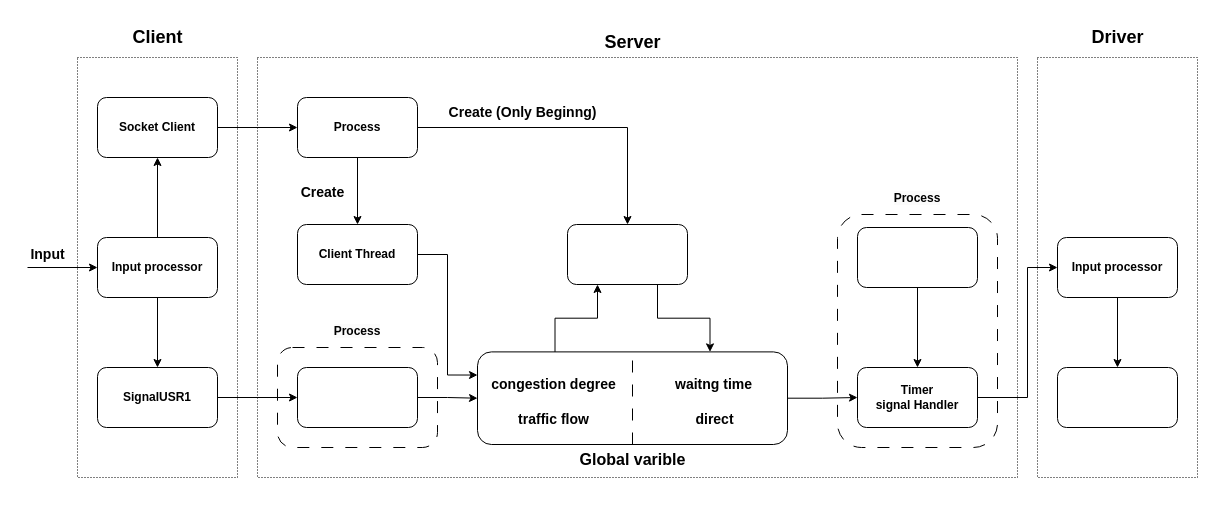
Some shapes in this 1215 by 511 pixel diagram are drawn without their labels. The shapes that lost their labels are listed below. From the top down, each one's box as (x1, y1, x2, y2) in pixels, then its label:
(566, 224, 688, 284): Main Thread
(856, 226, 978, 288): Timer
(296, 366, 418, 428): Signal Handler
(1056, 366, 1178, 428): GPIO
